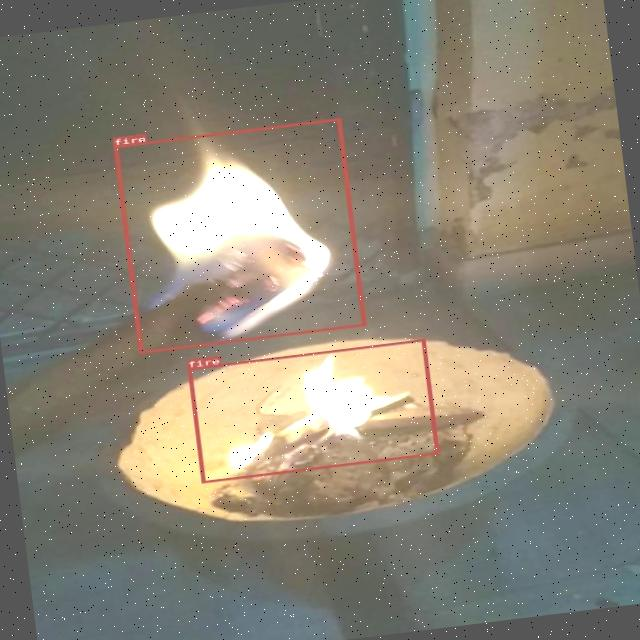fire: (112, 118, 366, 352), (186, 338, 438, 482)
